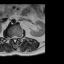CCS_normal: (13, 34, 15, 44)
LFS_stenosis: (17, 35, 19, 40)
LLS_normal: (15, 35, 18, 40)
RFS_stenosis: (9, 35, 12, 40)
RLS_normal: (11, 35, 13, 41)
